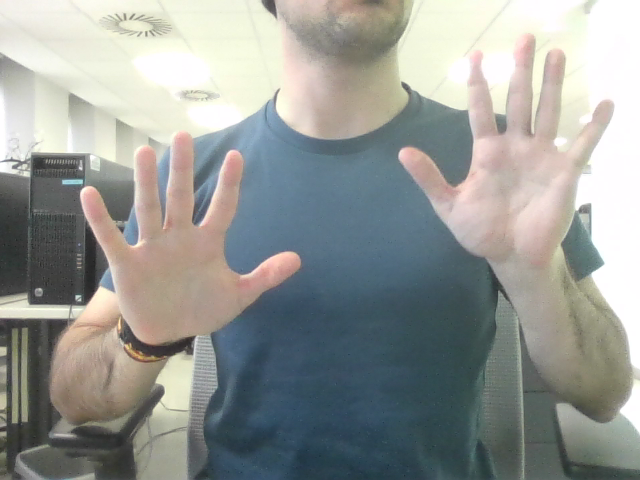Manos Arriba: (115, 58, 583, 304)
